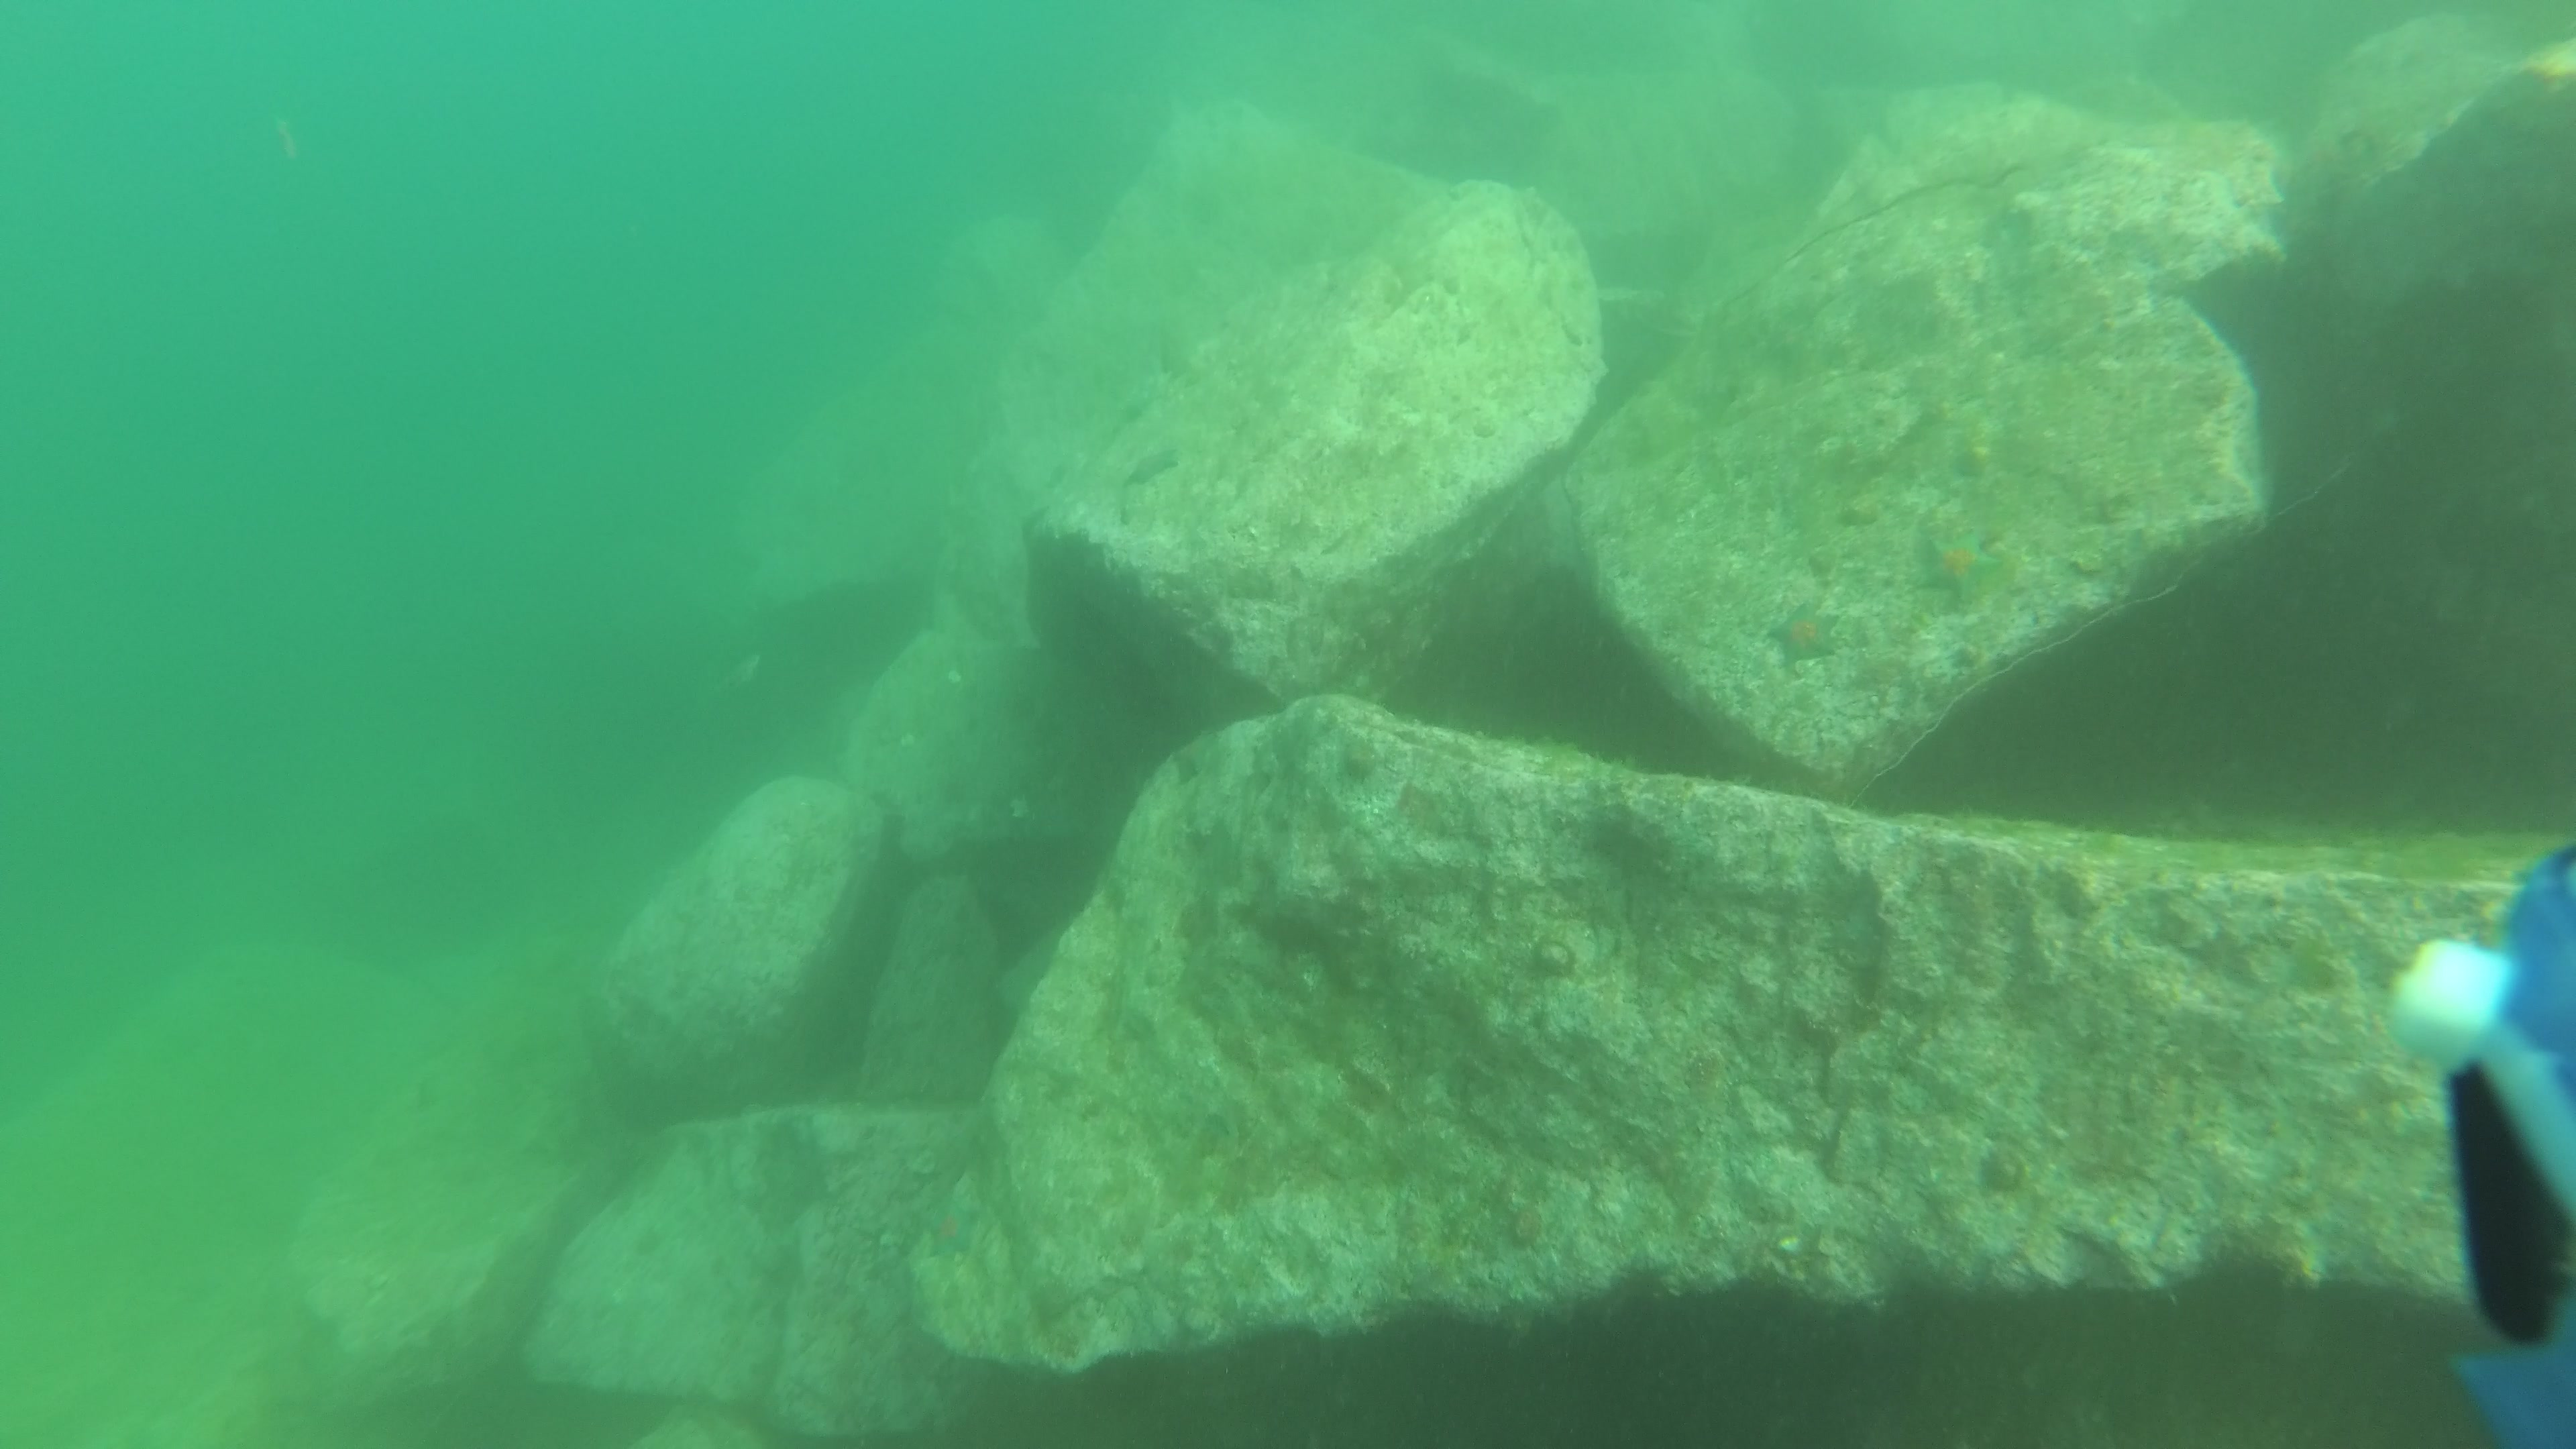starfish: (1913, 522, 2008, 607), (1764, 596, 1844, 669), (916, 1196, 984, 1263), (1123, 446, 1185, 488)
